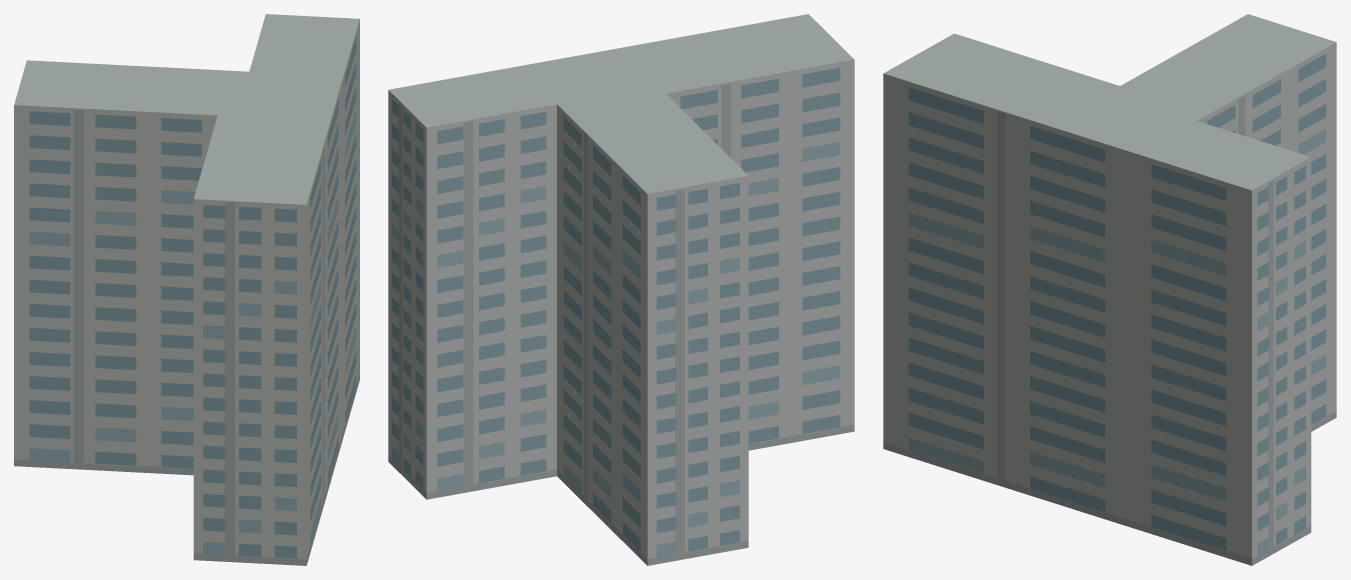
File: residential-72bd87cd-8e5b-4fad-84c5-4b2a3b7ba916.glb
3 views of the same model, side by side, from view 1: azimuth 30°, elevation 25°; view 2: azimuth 150°, elevation 25°; view 3: azimuth 270°, elevation 25° (orthographic). The views are drawn at different scales.
Visible parts, largest first — view 1: residential-72bd87cd-8e5b-4fad-84c5-4b2a3b7ba916.tmp; view 2: residential-72bd87cd-8e5b-4fad-84c5-4b2a3b7ba916.tmp; view 3: residential-72bd87cd-8e5b-4fad-84c5-4b2a3b7ba916.tmp.
Boxes of the visible parts, x1,y1,x2,y2 form: residential-72bd87cd-8e5b-4fad-84c5-4b2a3b7ba916.tmp: (14,14,359,565); residential-72bd87cd-8e5b-4fad-84c5-4b2a3b7ba916.tmp: (388,14,854,565); residential-72bd87cd-8e5b-4fad-84c5-4b2a3b7ba916.tmp: (883,14,1336,565).
Bounding box in the file's own units: 47.38 × 47 × 51.45.
